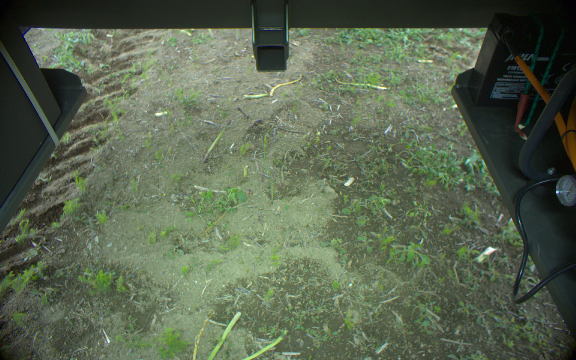aspa: (201, 309, 243, 360), (240, 327, 289, 360), (200, 118, 230, 162)
